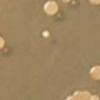white: (63, 88, 99, 100), (42, 1, 60, 19), (88, 64, 100, 82), (84, 0, 100, 10), (0, 33, 6, 50), (41, 28, 51, 38), (62, 0, 74, 4)
